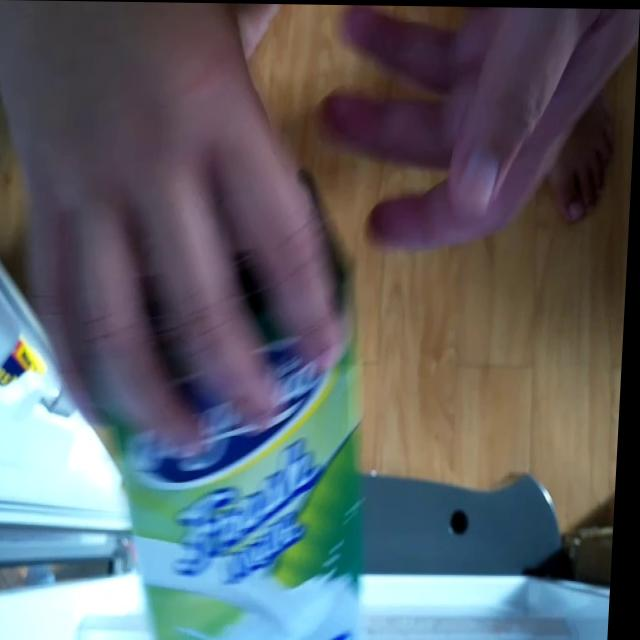milk: (92, 157, 386, 640)
